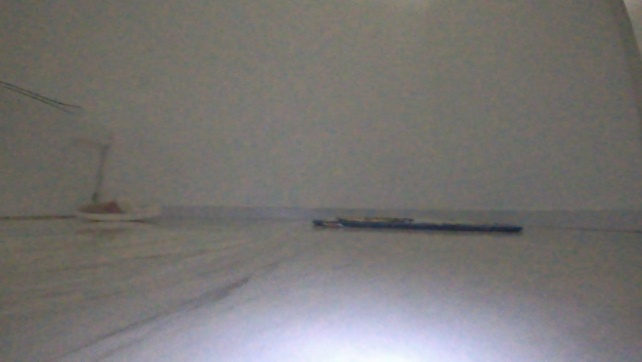blanket: (311, 214, 523, 234)
shoe: (70, 191, 164, 222)
toilet: (1, 77, 111, 220)
